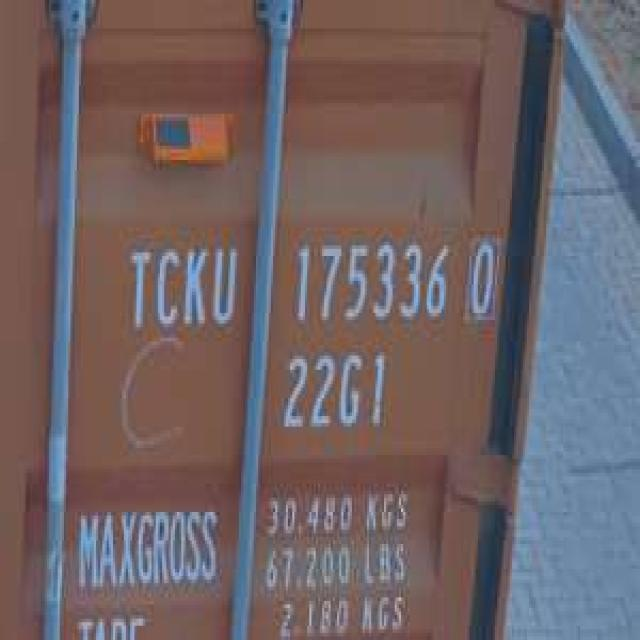dv: (467, 232, 500, 319)
owner: (123, 238, 241, 334)
serial: (289, 233, 453, 327)
size: (280, 348, 391, 434)
